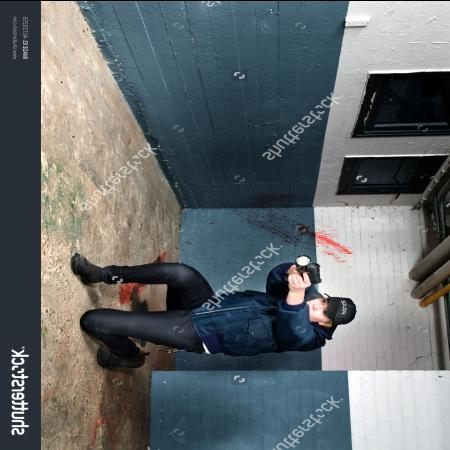Pistol: (283, 260, 323, 284)
